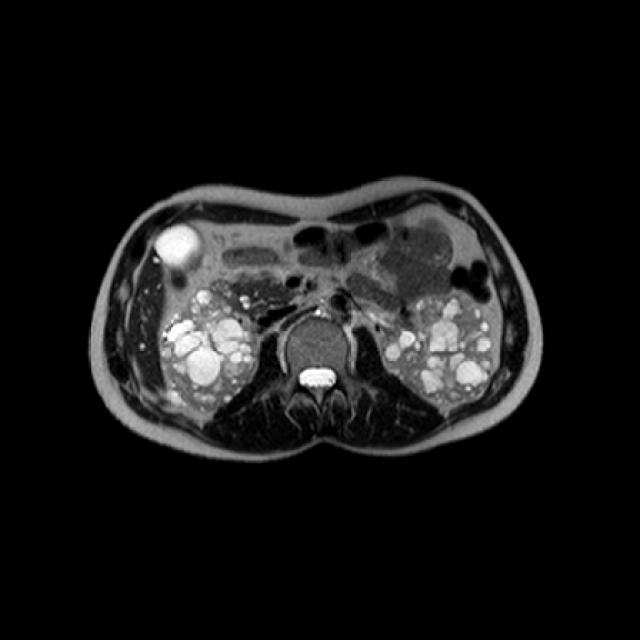sag: (160, 286, 261, 415)
sol: (377, 289, 494, 407)
